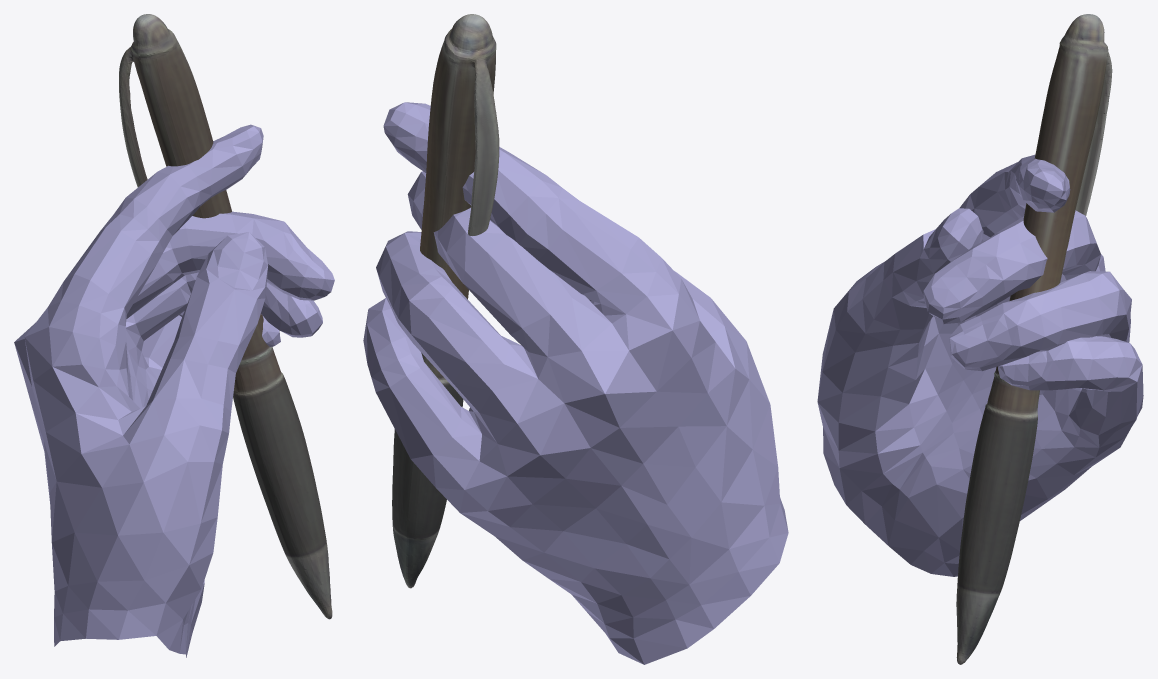
The model's file is frame_0045_source_000045_hand_object.glb.
3 views of the same model, side by side, from view 1: azimuth 30°, elevation 25°; view 2: azimuth 150°, elevation 25°; view 3: azimuth 270°, elevation 25° (orthographic). The views are drawn at different scales.
Parts seen in each view (by area): view 1: world; view 2: world; view 3: world.
Boxes of the visible parts, box(x1,y1,x2,y2) form: world: box(14, 14, 334, 657); world: box(363, 14, 788, 664); world: box(817, 14, 1143, 664).
Bounding box in the file's own units: 0.1002 × 0.1858 × 0.0922.
